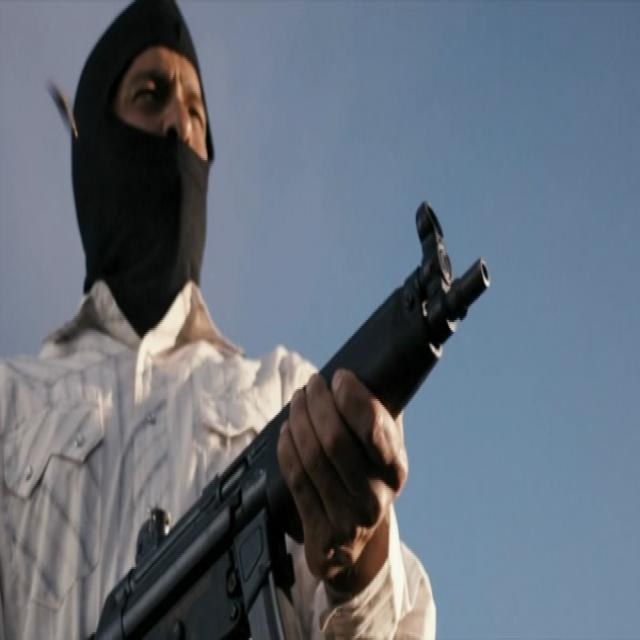rifle: (87, 193, 494, 640)
